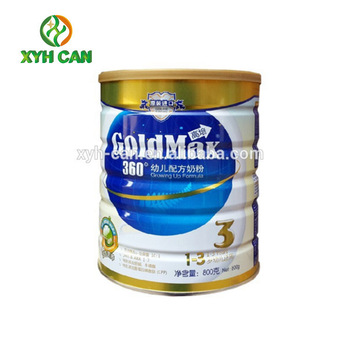metal: (96, 68, 260, 297)
